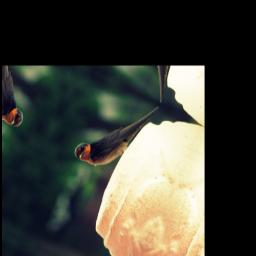Swallow: (70, 80, 161, 183)
